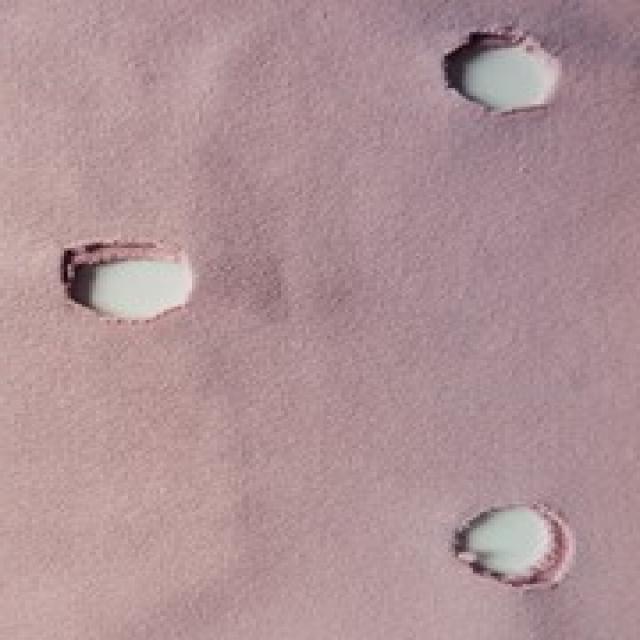Hole: (455, 506, 575, 589), (61, 243, 191, 319), (444, 30, 561, 111)
